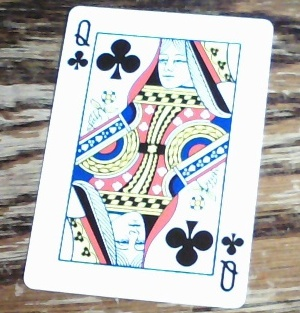card: (24, 5, 275, 308)
